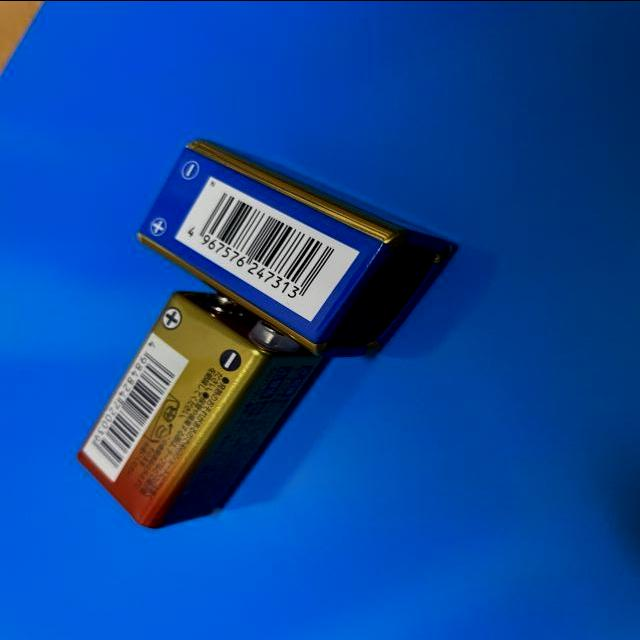9V: (136, 137, 456, 357), (74, 289, 324, 529)
